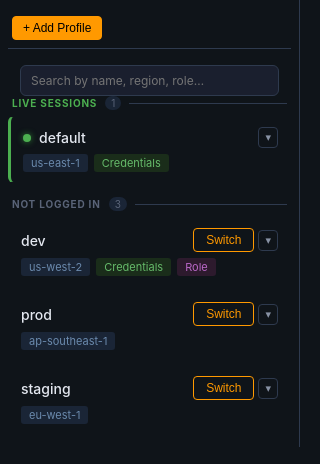
Scenario: ProfileList search › filters by region
This screenshot has width=320, height=464.
Step 1. Type "eu-west" into the search field named "Filter profiles" → coordinates (150, 80), box [20, 65, 279, 96]
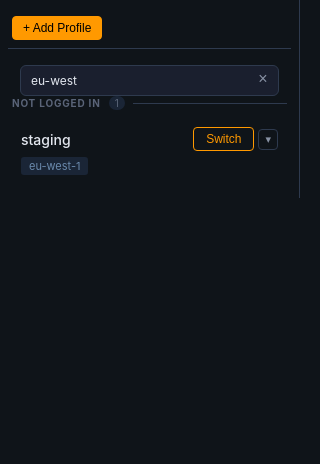
Expected: the text "staging" is shown, [21, 130, 71, 148]
Expected: the option "default" is gone
